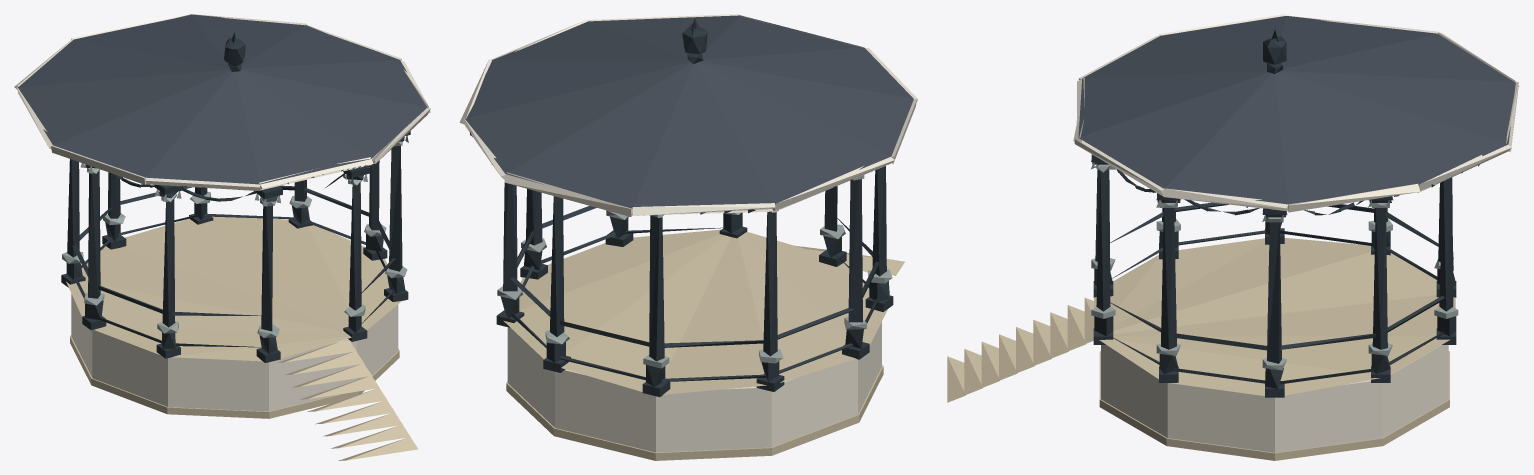
Rendered from vondelpark-bandstand.lod1.glb.
3 renders of one model, left to right at view 1: azimuth 30°, elevation 25°; view 2: azimuth 150°, elevation 25°; view 3: azimuth 270°, elevation 25°, orthographic. The views are drawn at different scales.
Visible parts, largest first — view 1: vondelpark-bandstand; view 2: vondelpark-bandstand; view 3: vondelpark-bandstand.
Boxes of the visible parts, x1,y1,x2,y2 form: vondelpark-bandstand: (14, 14, 430, 460); vondelpark-bandstand: (459, 14, 918, 460); vondelpark-bandstand: (947, 14, 1519, 460).
Size of the model in its own units: 9.28 by 7.95 by 11.65.
